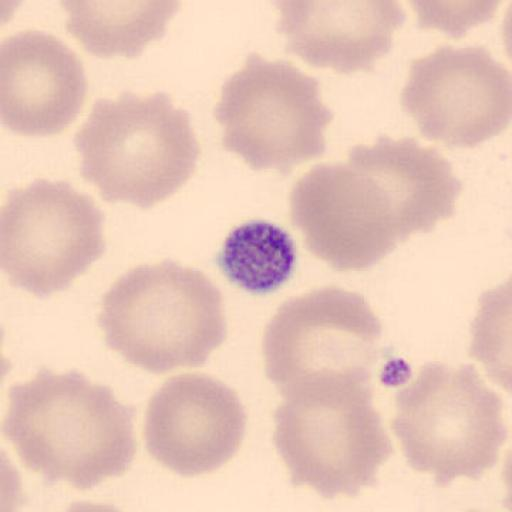Platelet: (215, 216, 300, 296)
RBC: (5, 366, 139, 493), (269, 365, 394, 501), (97, 256, 229, 374), (260, 283, 384, 408), (73, 89, 201, 210), (214, 52, 334, 176), (390, 360, 510, 484), (2, 176, 108, 300), (344, 134, 464, 240), (288, 160, 399, 273), (399, 42, 511, 148), (141, 371, 249, 480), (266, 0, 405, 75), (74, 90, 162, 208), (2, 26, 90, 140), (57, 1, 185, 60), (469, 277, 512, 399), (404, 0, 508, 41), (0, 441, 30, 512), (48, 499, 146, 512)
